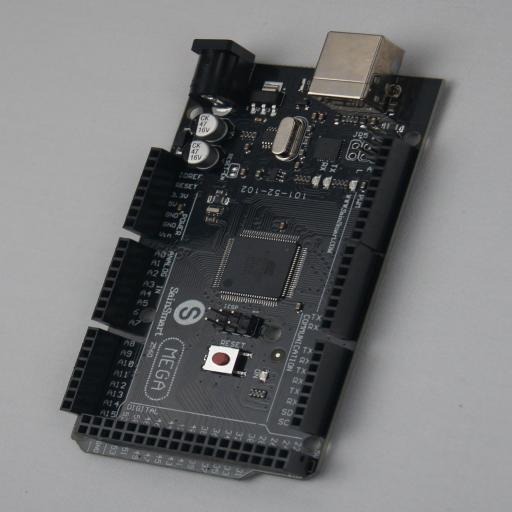Arduino Mega 2560 -Black-: (60, 31, 451, 482)
